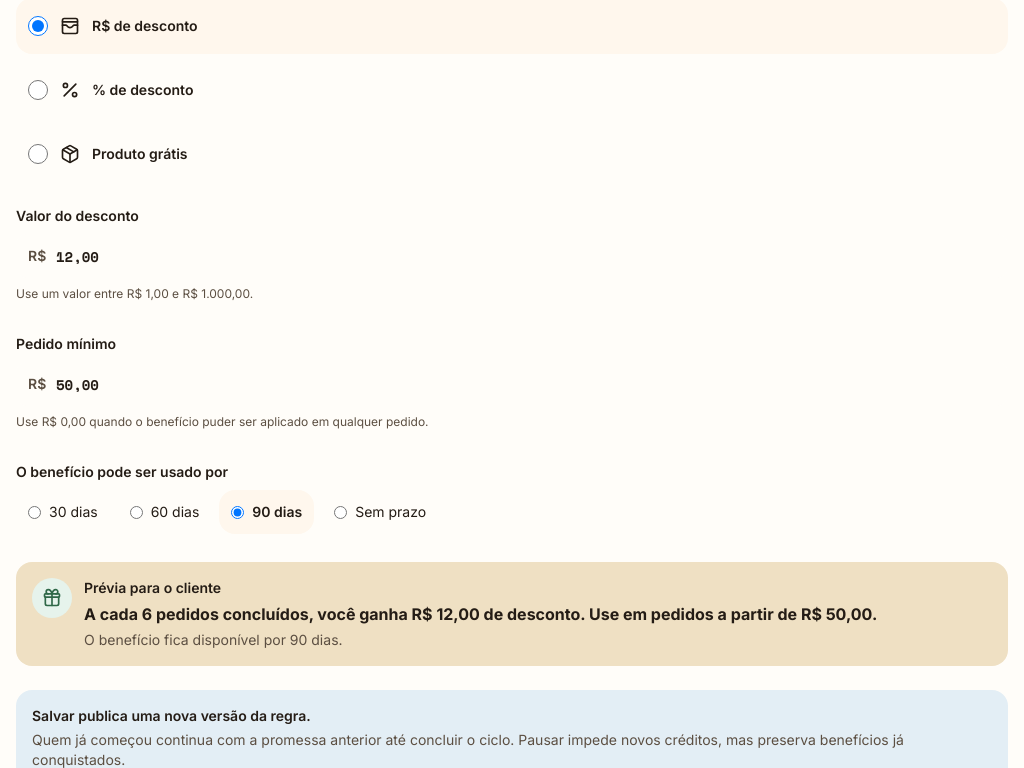
Scenario: configuração de fidelidade › aplica templates como estratégias completas e informa o que será substituído
This screenshot has width=1024, height=768.
(page scrolled)
Replace the text in the field labelled "Pedido mínimo" with "99,00" at (512, 384), box [16, 362, 1008, 406]
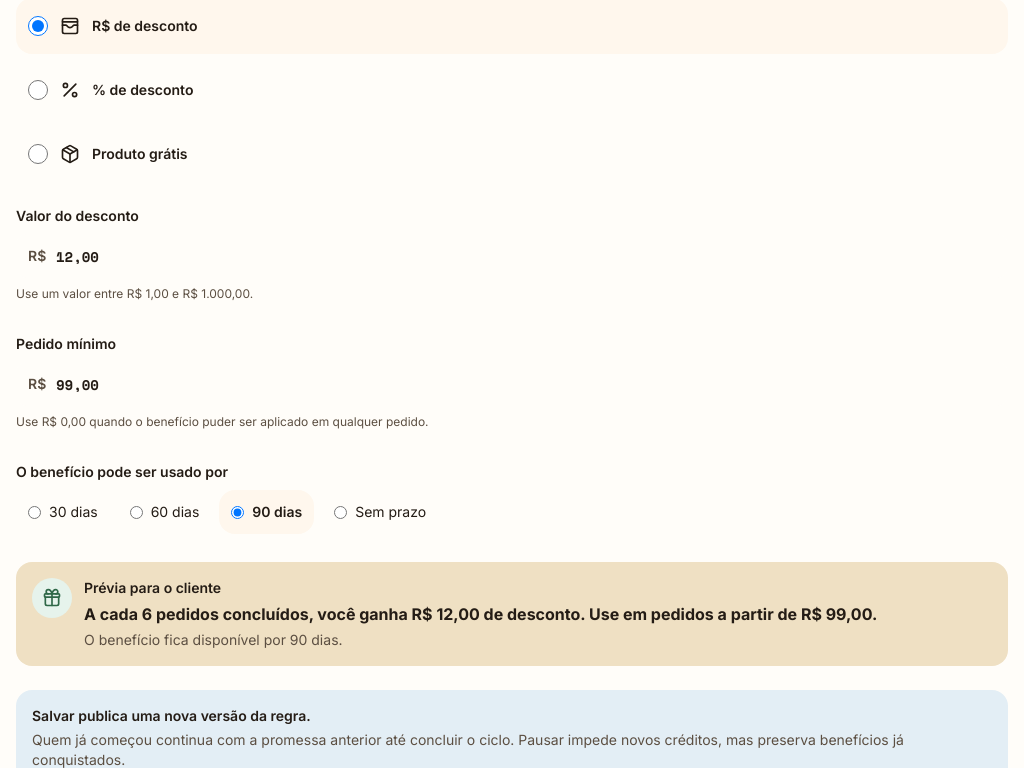
Click the radio button labelled "90 dias" at (238, 512), box [231, 506, 244, 518]
(page scrolled)
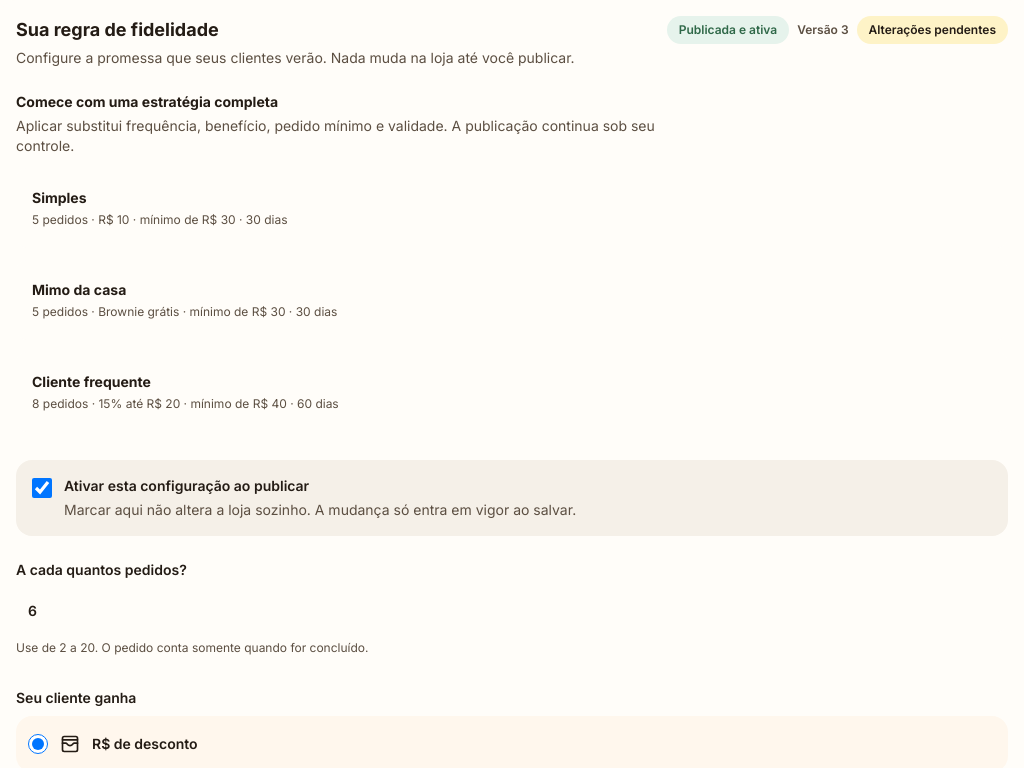
Click the button "Simples 5 pedidos · R$ 10 · mínimo de R$ 30 · 30 dias" at (59, 198), box [16, 168, 1008, 248]
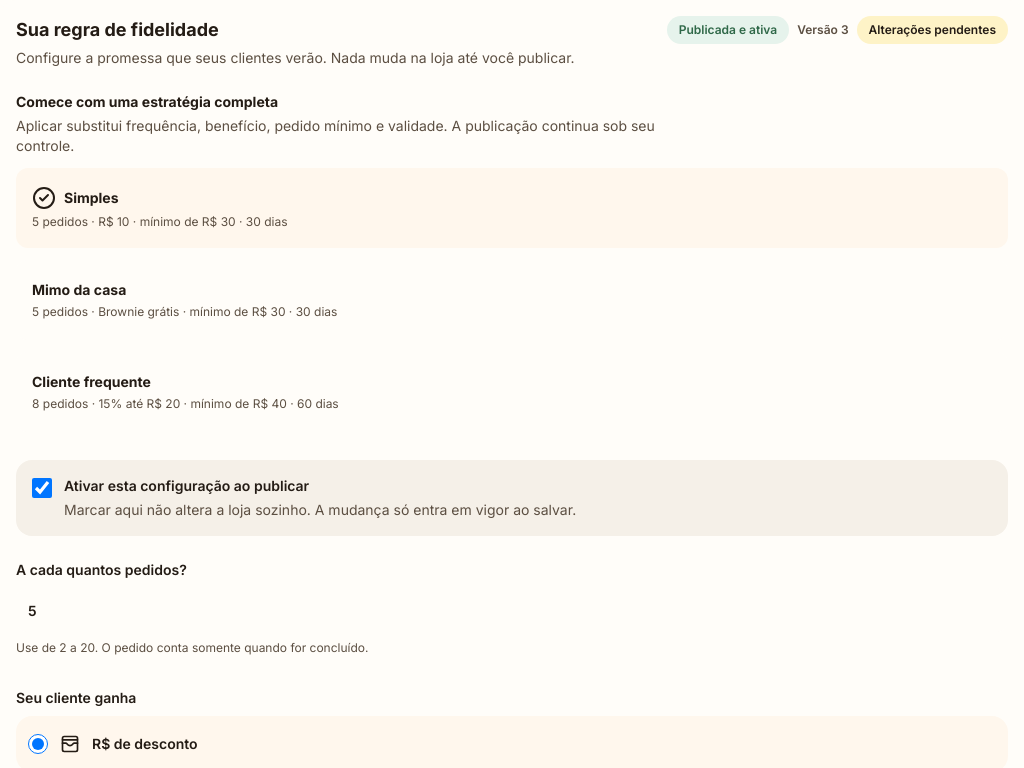
Expected: the text "Aplicar substitui frequência, benefício, pedido mínimo e validade" is shown, [16, 117, 655, 154]
Now the number field labelled "A cada quantos pedidos?" holds "5", box [16, 588, 1008, 632]
